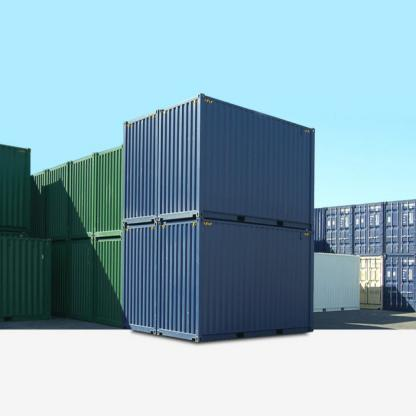Damage: (222, 183, 252, 201), (284, 238, 302, 267), (261, 252, 270, 274)
